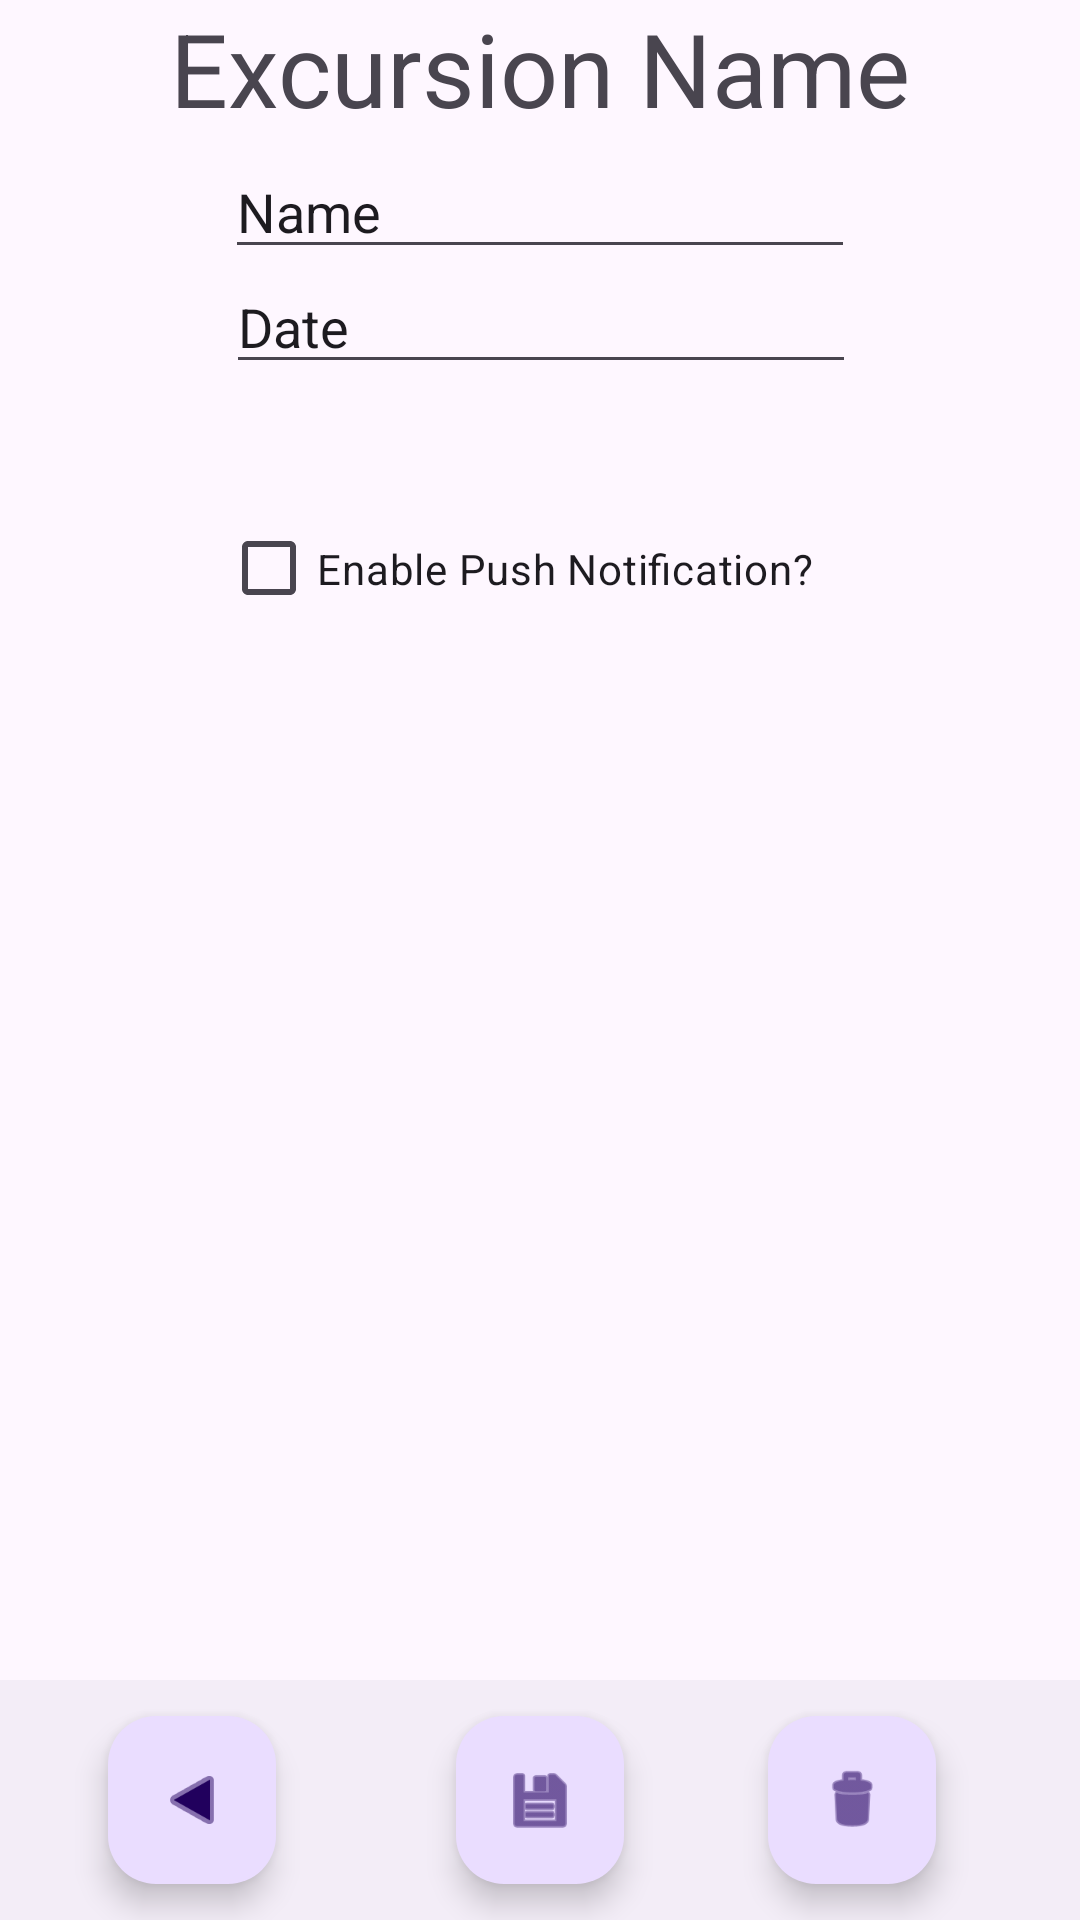

Where to tap for icons on this 1080 × 1920 app screen, as (x=x, y=y):
delete: (x=852, y=1798)
save: (x=540, y=1800)
